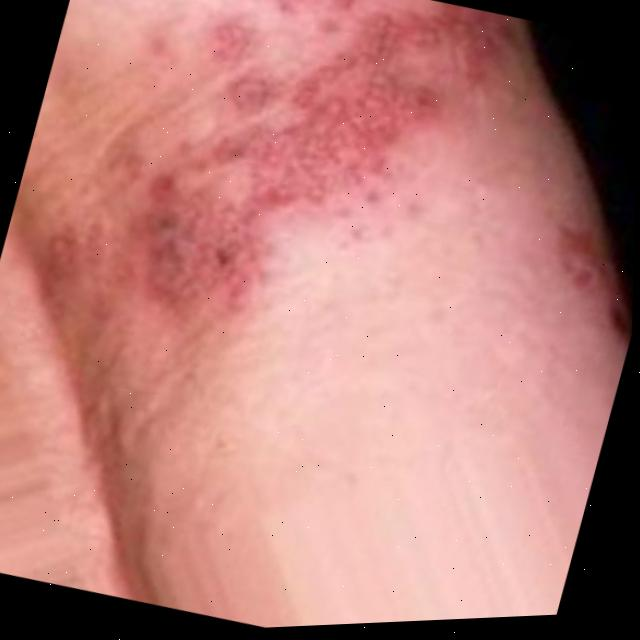Shingles: (103, 0, 509, 354)
